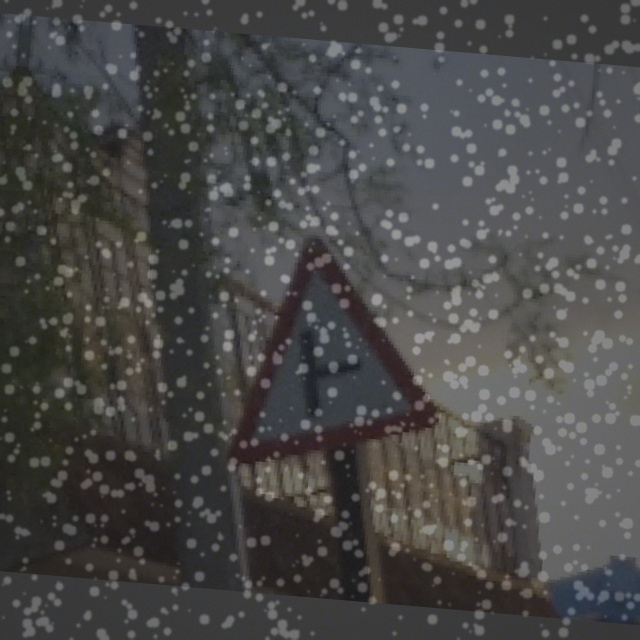Side_Road_Right: (215, 229, 439, 460)
